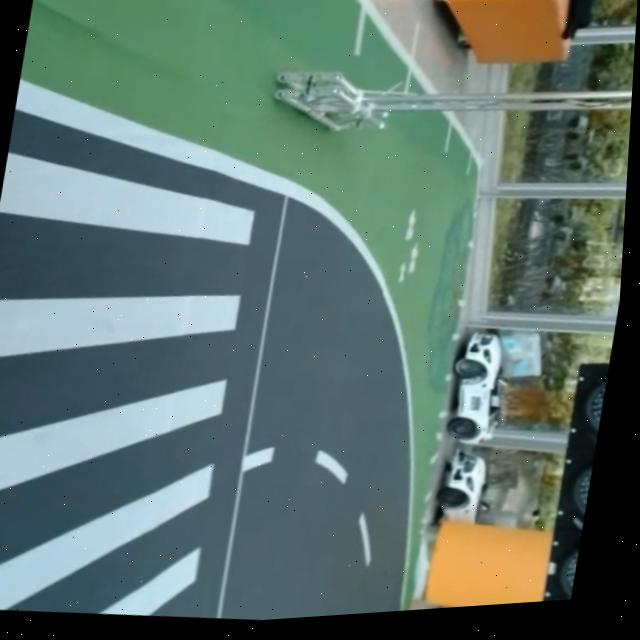traffic-light: (536, 355, 609, 602)
